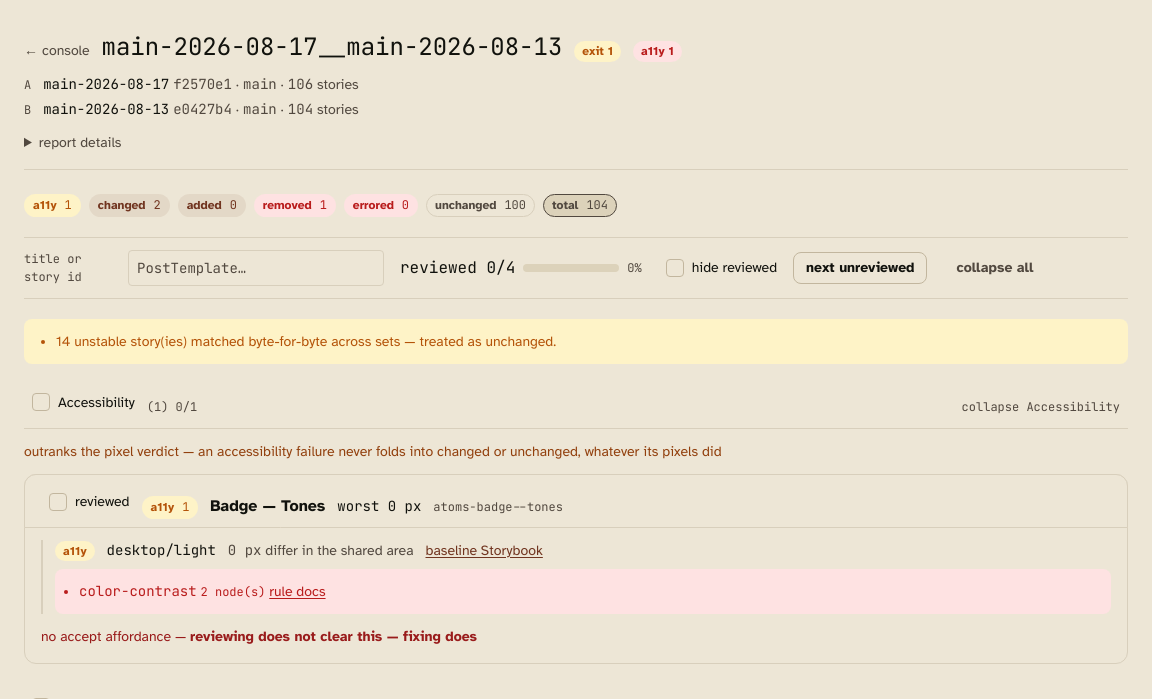
it: the bucket chip row › says why the unchanged bucket has nothing to open
Step 1. Click the button "unchanged 100" → (481, 205), box x1=426 y1=194 x2=535 y2=217
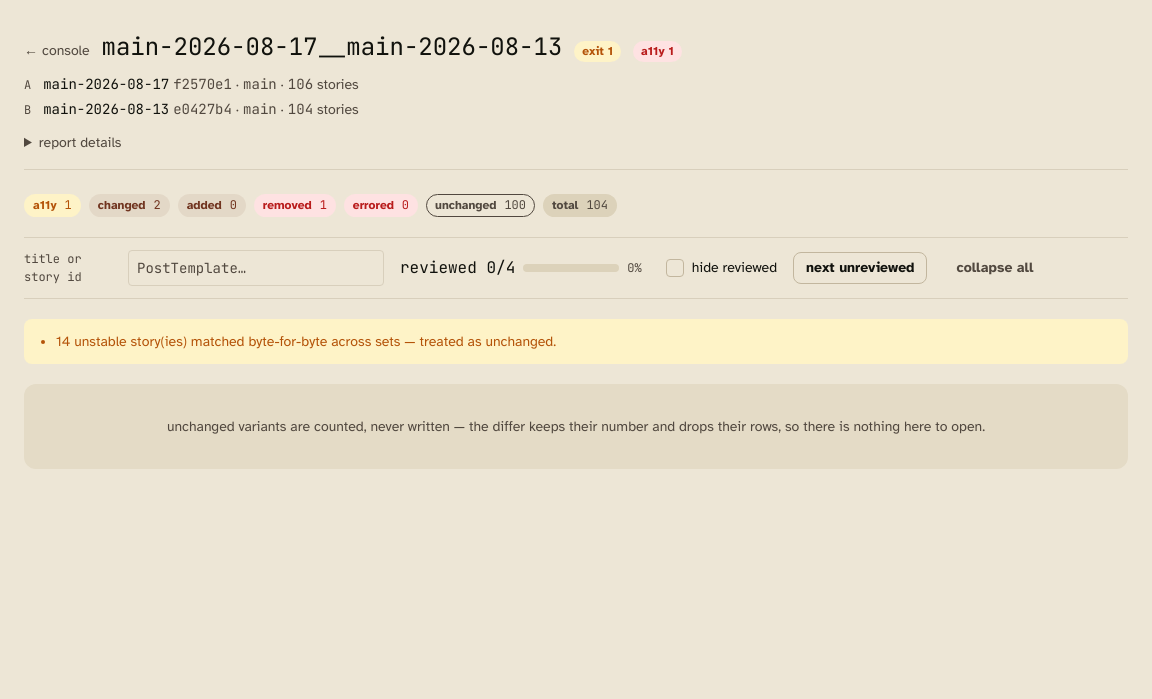
expect the text "counted, never written" is shown: met, box x1=167 y1=418 x2=985 y2=435
